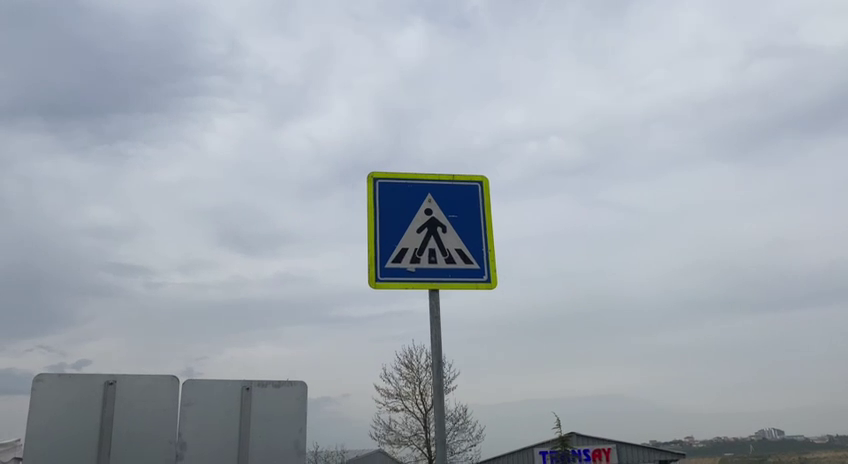pedestrianCrossing: (364, 167, 500, 295)
